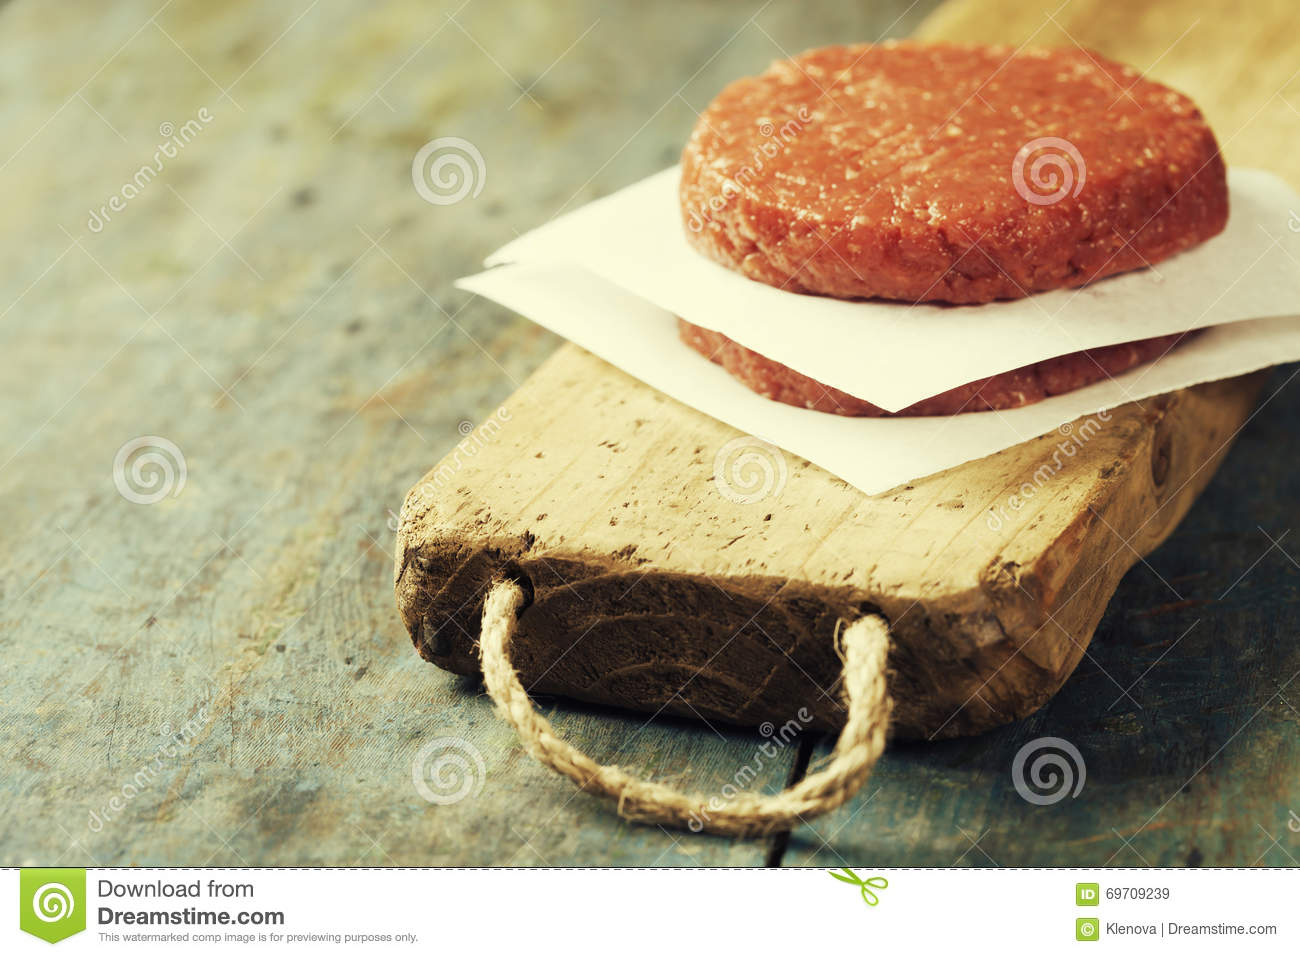ground_beef: (659, 32, 1214, 297), (689, 323, 1153, 425)
